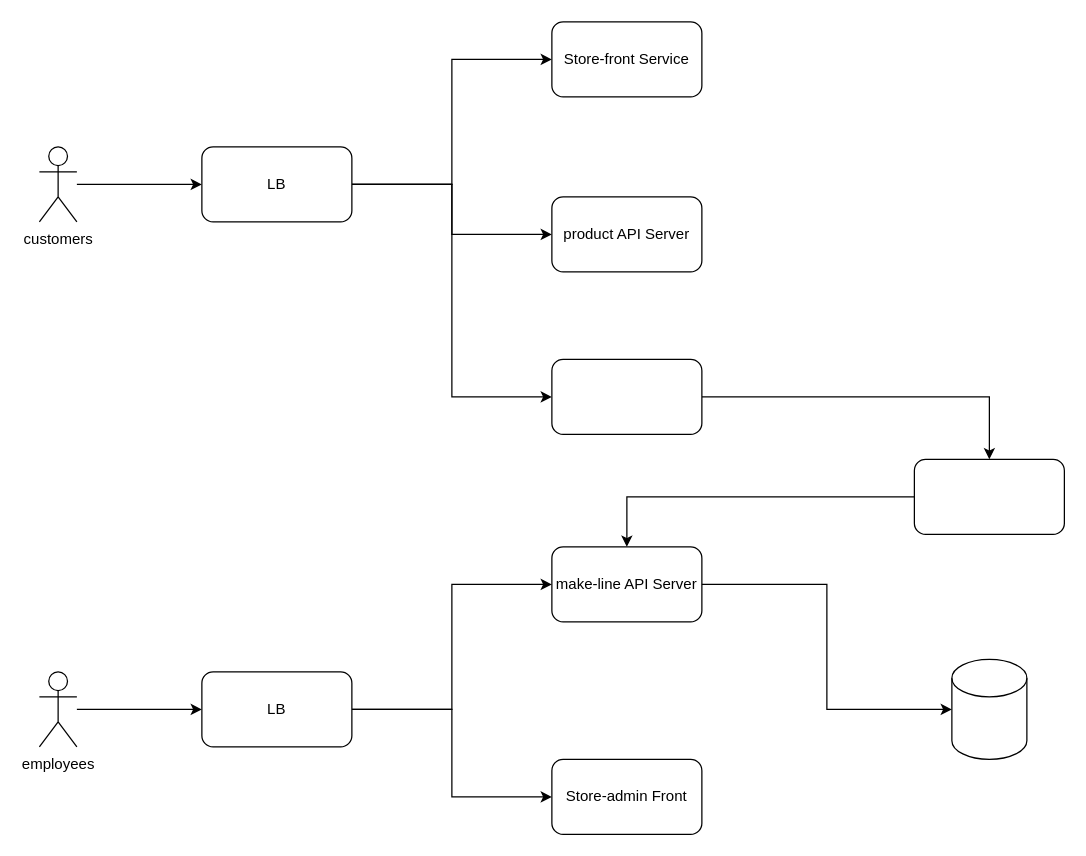
Image size: 1086x856. Some labels were removed from this diagram. The shapes that lost their labels are listed below. From the top down, each one's box as (x1, y1, x2, y2) in pixels, then its label:
(551, 358, 702, 434): order API Server
(913, 458, 1064, 534): RabbitMQ
(951, 658, 1027, 759): MongoDB
